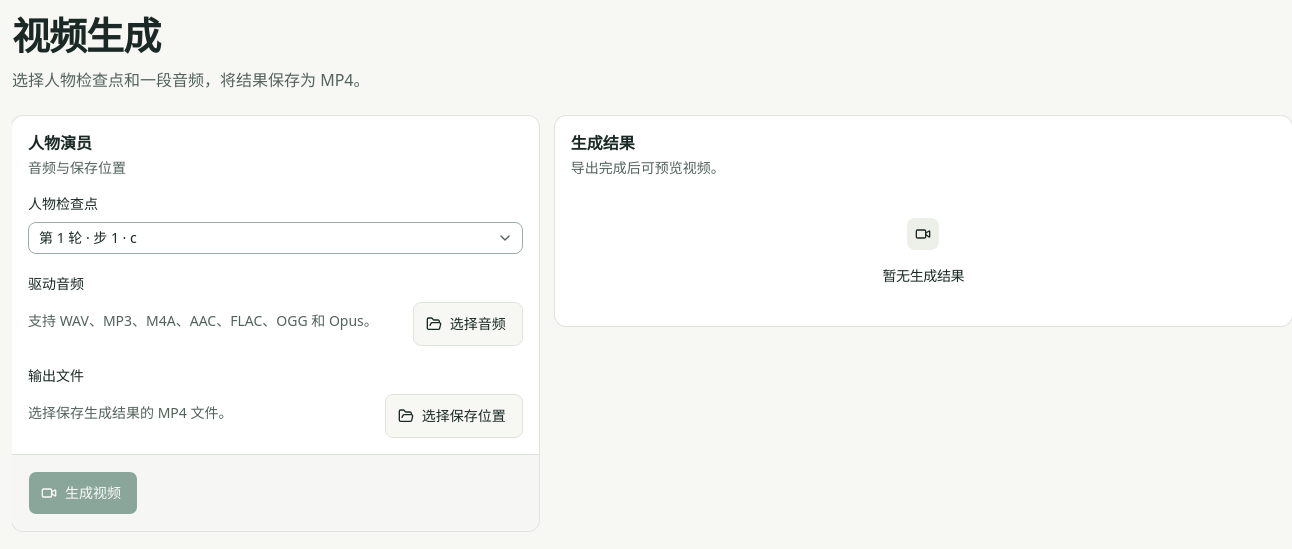
Scenario: submits Unicode paths untouched and stops a second start while training owns the worker
The width and height of the screenshot is (1292, 549).
Later steps or results of the test are not shown.
Click the button "选择音频" at [468, 324], box x1=413 y1=302 x2=523 y2=346
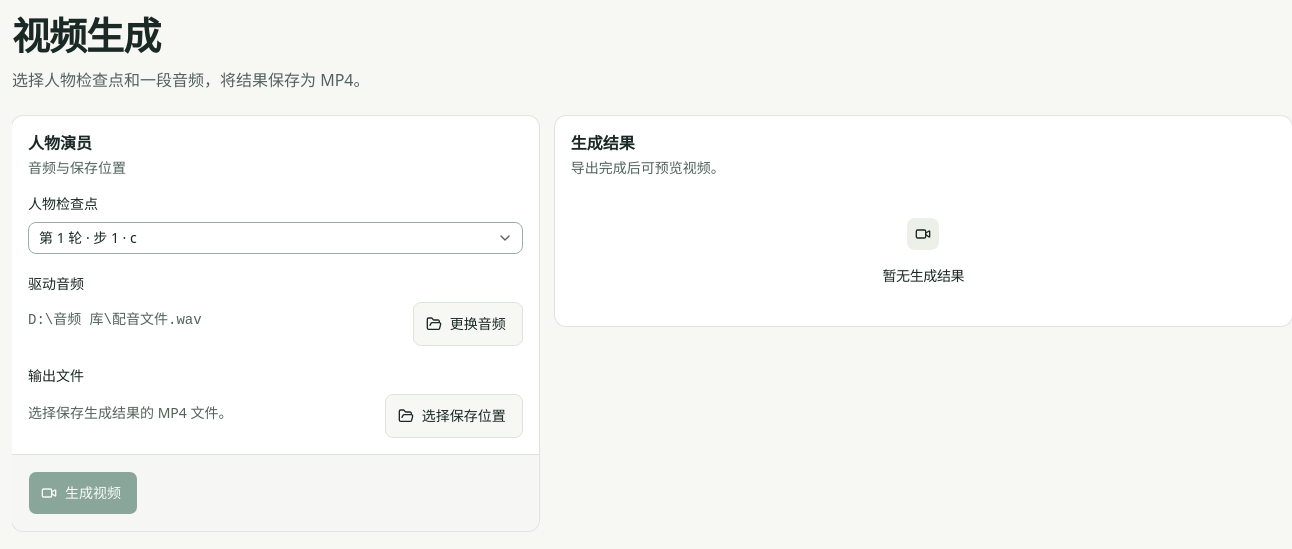
Expected: the text "D:\\音频 库\\配音文件.wav" is shown, x1=28 y1=312 x2=202 y2=328
Click the button "选择保存位置" at [454, 416], box x1=385 y1=394 x2=523 y2=438
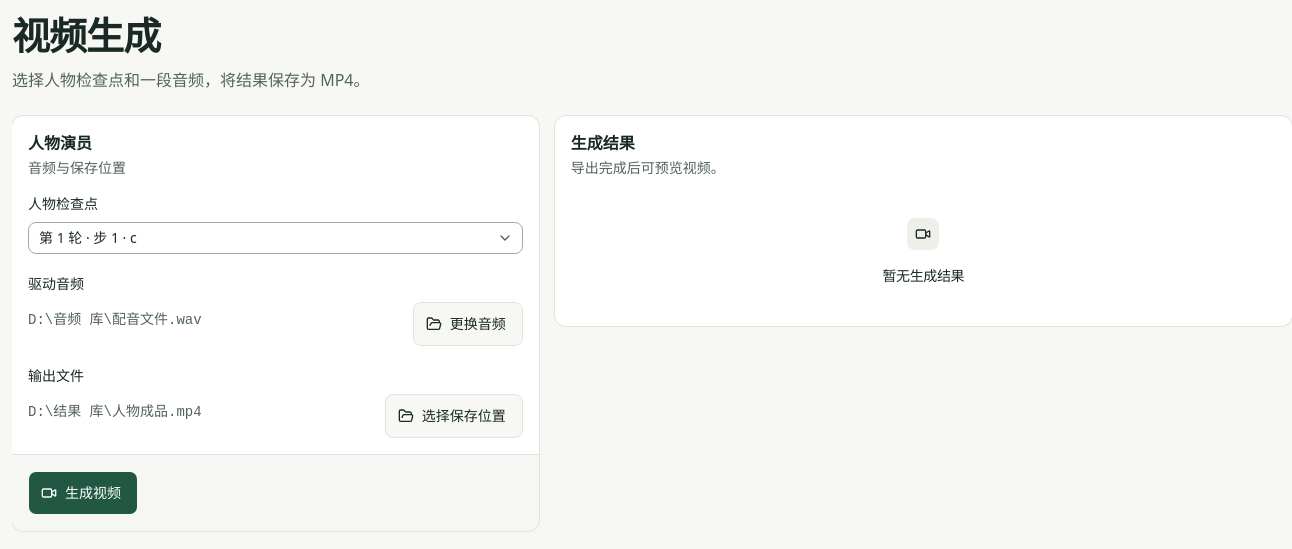
Expected: the text "D:\\结果 库\\人物成品.mp4" is shown, x1=28 y1=404 x2=202 y2=420
